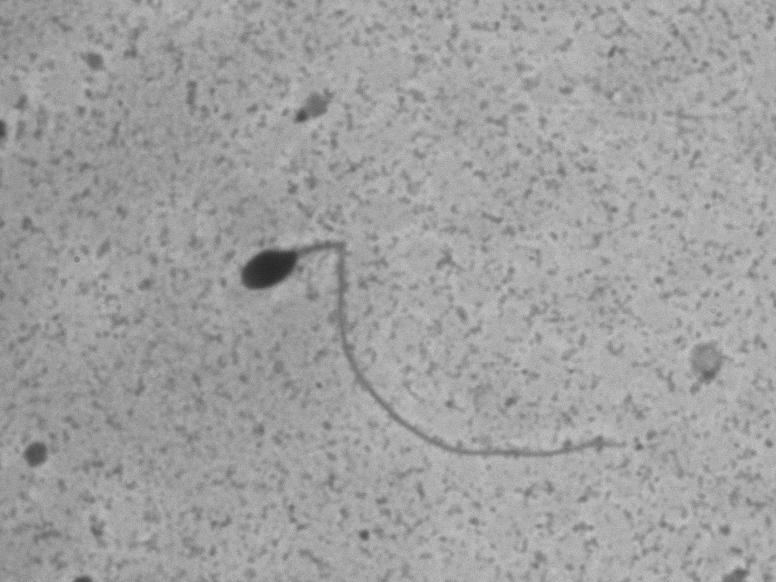Abnormal: (197, 211, 636, 478)
